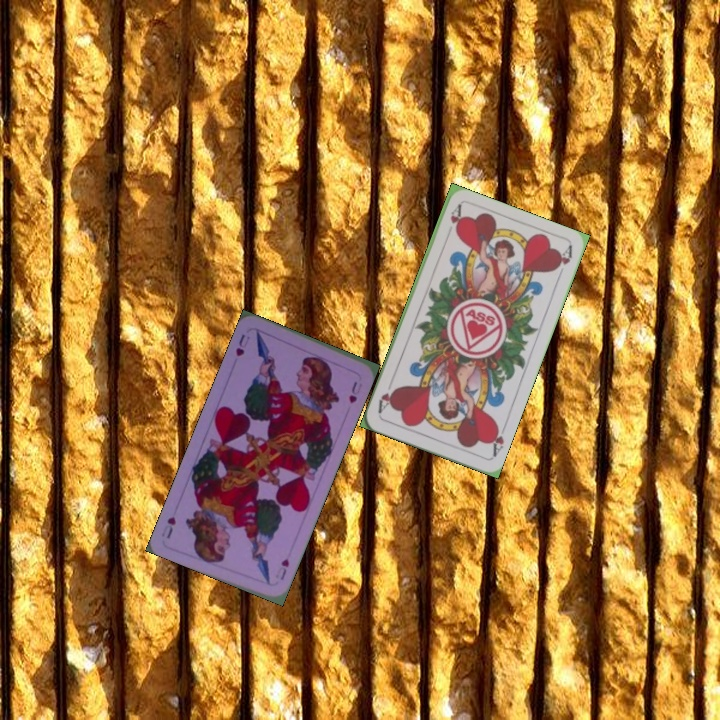HA: (486, 419, 509, 460), (446, 201, 464, 234)
HU: (231, 330, 253, 359), (274, 554, 292, 583)
